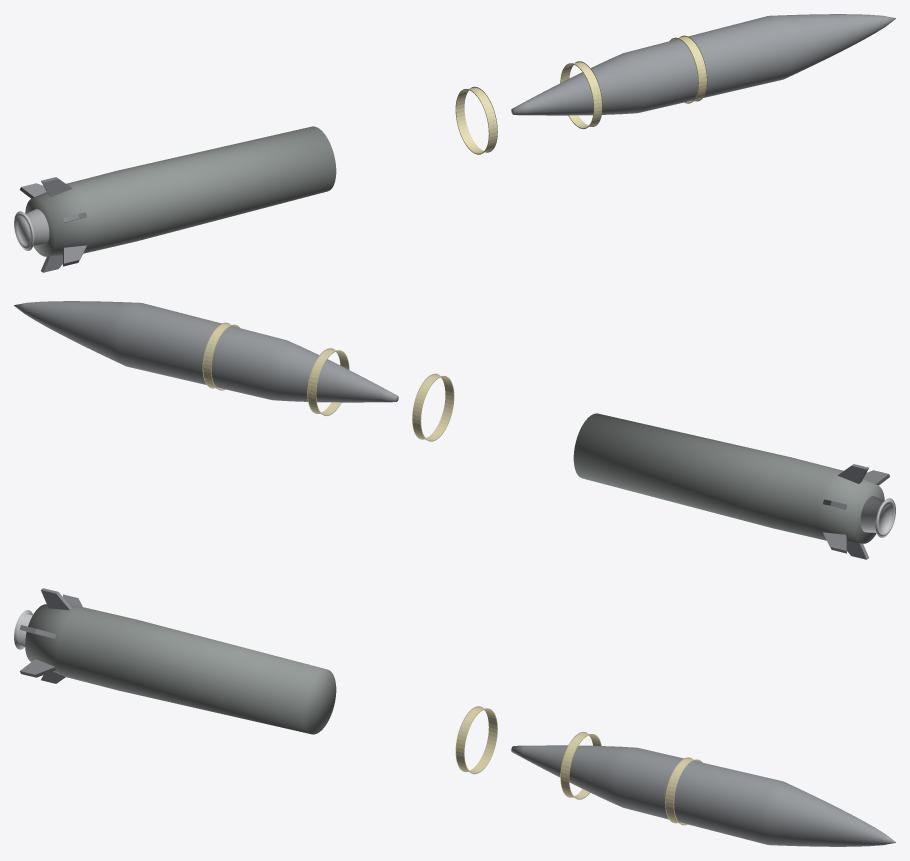
The model's file is RU_ASW_Vodopad_LOD0.fbx.
3 views of the same model, one above another, from view 1: azimuth 30°, elevation 25°; view 2: azimuth 150°, elevation 25°; view 3: azimuth 330°, elevation 25° (orthographic).
Parts seen in each view (by area): view 1: WPN_RU_ASW_Vodopad_LOD0_Tail, WPN_RU_ASW_Vodopad_LOD0_Body, WPN_RU_ASW_Vodopad_LOD0_Marking, WPN_RU_ASW_Vodopad_LOD0_Fins, WPN_RU_ASW_Vodopad_LOD0_Propulsor; view 2: WPN_RU_ASW_Vodopad_LOD0_Tail, WPN_RU_ASW_Vodopad_LOD0_Body, WPN_RU_ASW_Vodopad_LOD0_Marking, WPN_RU_ASW_Vodopad_LOD0_Fins, WPN_RU_ASW_Vodopad_LOD0_Propulsor; view 3: WPN_RU_ASW_Vodopad_LOD0_Tail, WPN_RU_ASW_Vodopad_LOD0_Body, WPN_RU_ASW_Vodopad_LOD0_Marking, WPN_RU_ASW_Vodopad_LOD0_Fins.
Part boxes in pixels (x1,y1,x2,y2): WPN_RU_ASW_Vodopad_LOD0_Tail: (25, 126, 336, 256); WPN_RU_ASW_Vodopad_LOD0_Body: (511, 14, 895, 115); WPN_RU_ASW_Vodopad_LOD0_Marking: (455, 35, 707, 154); WPN_RU_ASW_Vodopad_LOD0_Fins: (20, 177, 86, 272); WPN_RU_ASW_Vodopad_LOD0_Propulsor: (14, 209, 49, 250); WPN_RU_ASW_Vodopad_LOD0_Tail: (573, 413, 884, 543); WPN_RU_ASW_Vodopad_LOD0_Body: (14, 301, 398, 402); WPN_RU_ASW_Vodopad_LOD0_Marking: (202, 322, 454, 441); WPN_RU_ASW_Vodopad_LOD0_Fins: (823, 464, 889, 559); WPN_RU_ASW_Vodopad_LOD0_Propulsor: (860, 496, 895, 537); WPN_RU_ASW_Vodopad_LOD0_Tail: (25, 604, 336, 734); WPN_RU_ASW_Vodopad_LOD0_Body: (511, 745, 895, 846); WPN_RU_ASW_Vodopad_LOD0_Marking: (455, 706, 702, 825); WPN_RU_ASW_Vodopad_LOD0_Fins: (20, 588, 82, 683).
Size of the model in its own units: 8.2 by 0.7216 by 0.8102.
